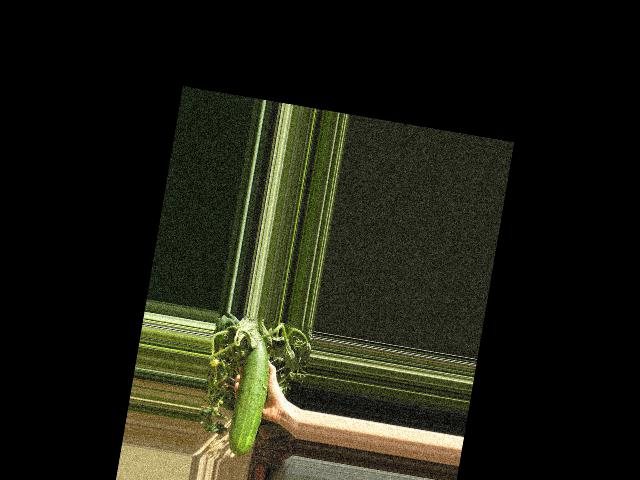cucumber: (225, 333, 276, 458)
